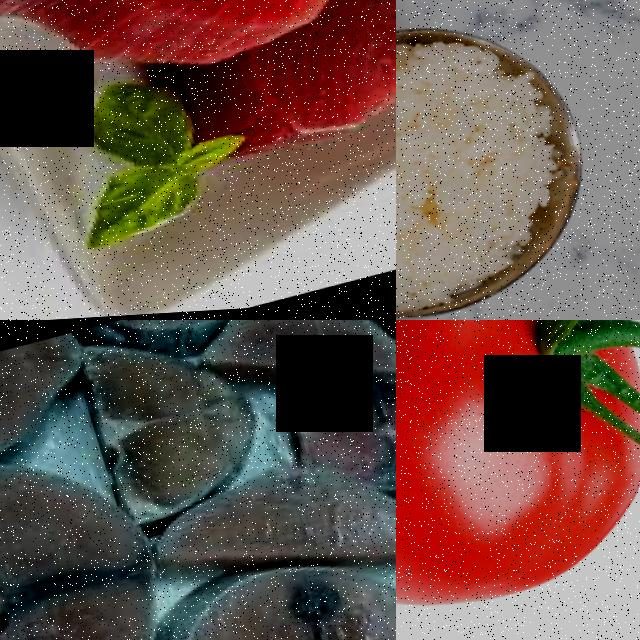tomato: (396, 320, 640, 640)
tuna: (0, 0, 396, 121), (199, 0, 396, 165)
white rice: (396, 12, 589, 320)
